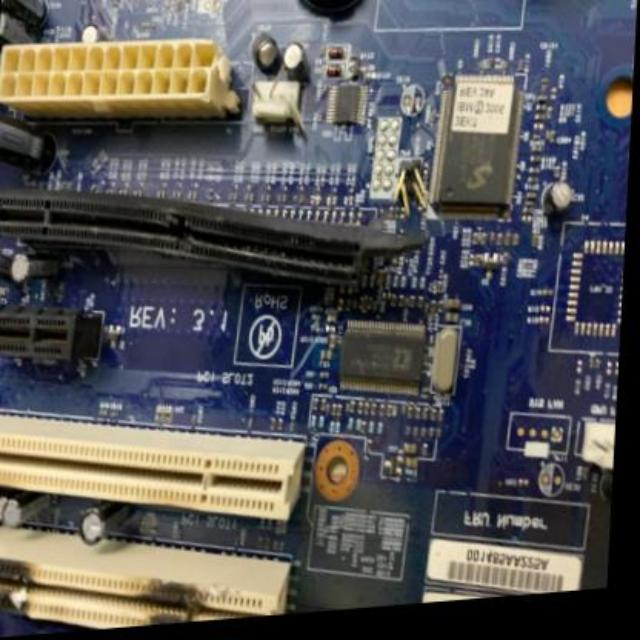PCB: (1, 4, 622, 632)
